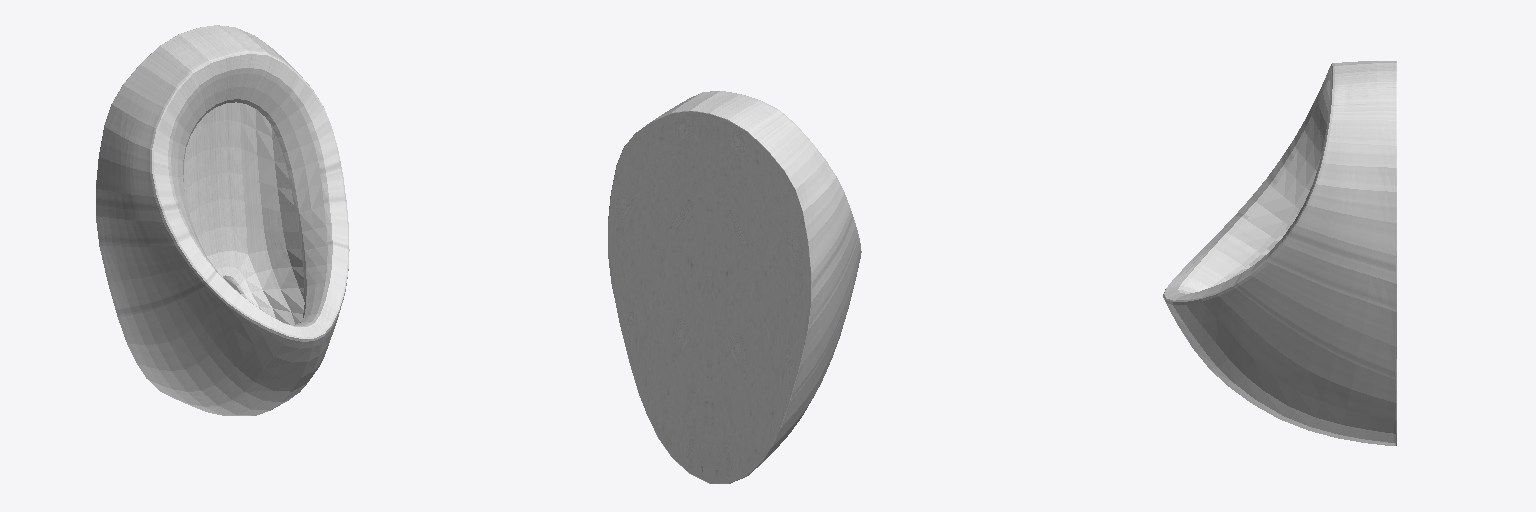
3 renders of one model, left to right at view 1: azimuth 30°, elevation 25°; view 2: azimuth 150°, elevation 25°; view 3: azimuth 270°, elevation 25°, orthographic.
Visible parts, largest first — view 1: TAURUS_T_100.001; view 2: TAURUS_T_100.001; view 3: TAURUS_T_100.001.
Part boxes in pixels (x1,y1,x2,y2): TAURUS_T_100.001: (96,25,349,415); TAURUS_T_100.001: (608,91,861,483); TAURUS_T_100.001: (1163,61,1396,445).
Bounding box in the file's own units: 0.8261 × 1.43 × 0.8184.
1 materials, 1 textured.